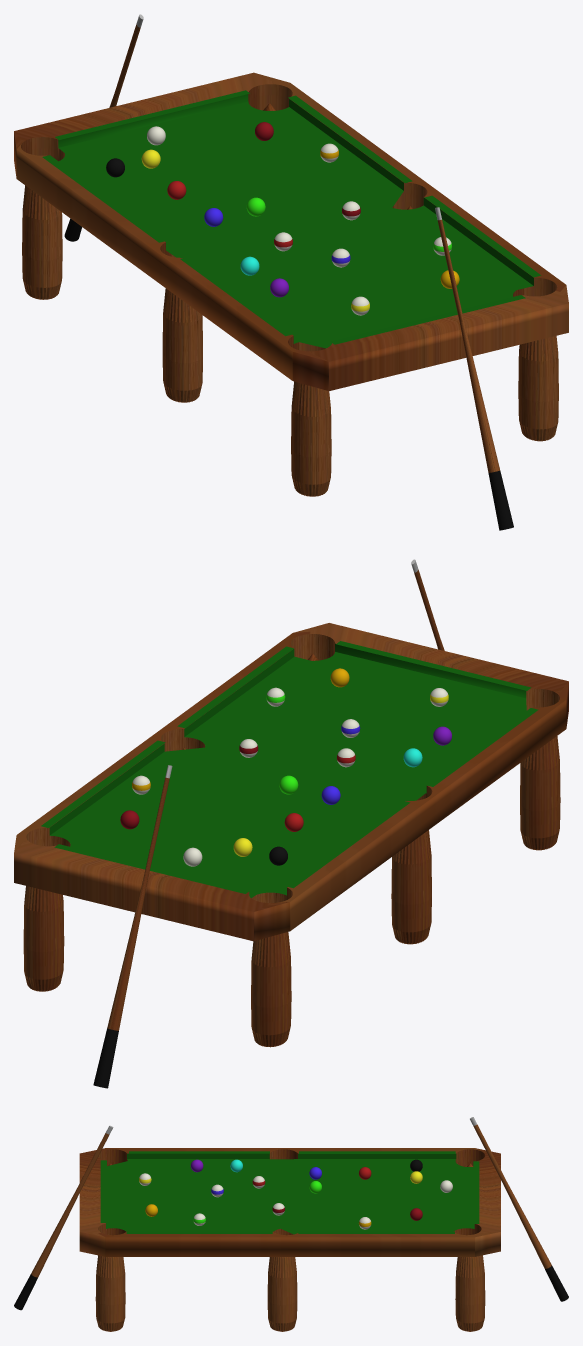
Rendered from snooker.fbx.
The picture shows the model from 3 angles, top to bottom: view 1: azimuth 30°, elevation 25°; view 2: azimuth 150°, elevation 25°; view 3: azimuth 270°, elevation 25°; orthographic projection. The views are drawn at different scales.
Parts seen in each view (by area): view 1: Plane, Cylinder.008, Cylinder.006, Cylinder.011, Cylinder.007, Cylinder.012, Cylinder.013; view 2: Plane, Cylinder.006, Cylinder.007, Cylinder.008, Cylinder.009, Cylinder.013; view 3: Plane, Cylinder.009, Cylinder.011, Cylinder.010, Cylinder.012, Cylinder.013.
Boxes of the visible parts, x1,y1,x2,y2 form: Plane: [14, 72, 568, 390]; Cylinder.008: [291, 381, 331, 496]; Cylinder.006: [22, 185, 62, 299]; Cylinder.011: [518, 336, 558, 441]; Cylinder.007: [162, 288, 202, 402]; Cylinder.012: [435, 207, 513, 530]; Cylinder.013: [64, 14, 143, 241]; Plane: [14, 623, 568, 941]; Cylinder.006: [251, 932, 291, 1047]; Cylinder.007: [391, 830, 431, 944]; Cylinder.008: [520, 736, 560, 850]; Cylinder.009: [23, 886, 64, 991]; Cylinder.013: [93, 765, 172, 1088]; Plane: [79, 1148, 500, 1256]; Cylinder.009: [455, 1255, 485, 1331]; Cylinder.011: [95, 1255, 125, 1331]; Cylinder.010: [267, 1257, 297, 1331]; Cylinder.012: [14, 1125, 113, 1310]; Cylinder.013: [470, 1117, 568, 1301].
Size of the model in its own units: 398 by 381 by 1044.
14 materials, 1 textured.
